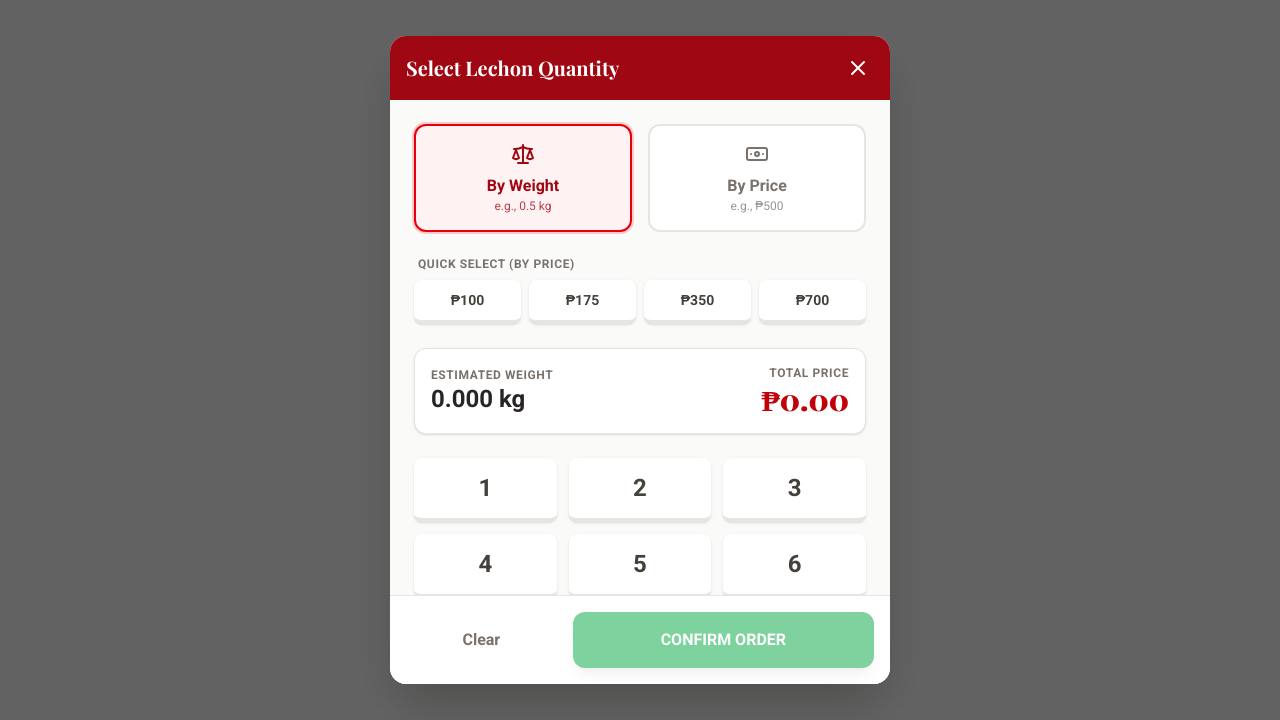
Test: LechonModal › calculates weight correctly when a price preset is clicked
# Click P175 preset
Click the button "₱175" at (582, 302), box [529,280,636,324]
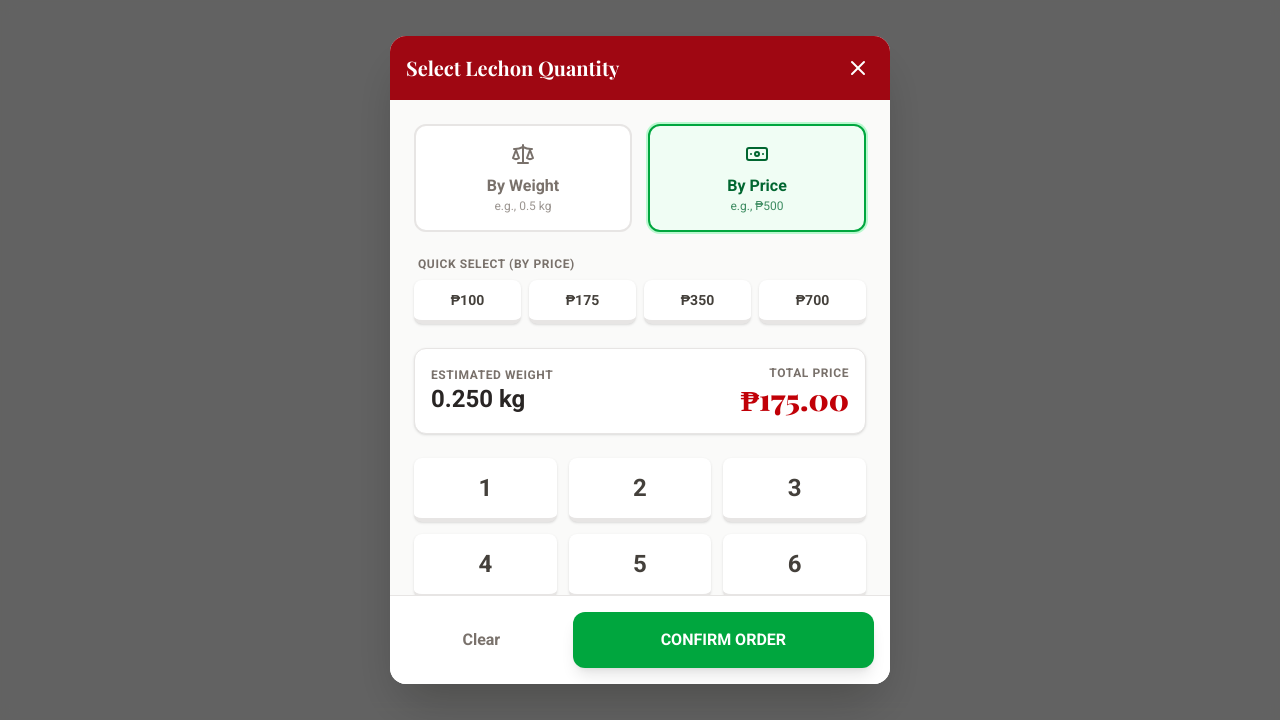
Check: the text "₱175.00" is shown, box [741,381,849,417]
Check: the text "0.250 kg" is shown, box [431,385,525,413]
